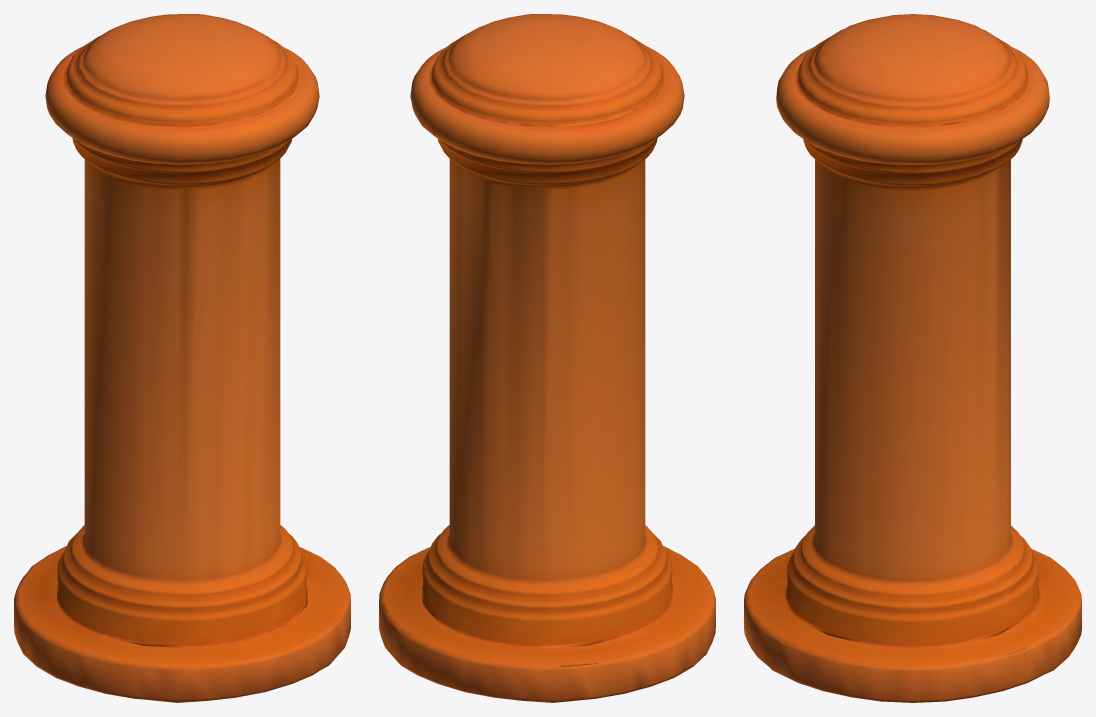
Rendered from Urban__a_bollard_bc0b9a2c_v2.cluster.glb.
3 views of the same model, side by side, from view 1: azimuth 30°, elevation 25°; view 2: azimuth 150°, elevation 25°; view 3: azimuth 270°, elevation 25° (orthographic).
Visible parts, largest first — view 1: material; view 2: material; view 3: material.
Boxes of the visible parts, box(x1,y1,x2,y2) form: material: box(14, 14, 350, 702); material: box(379, 14, 715, 702); material: box(744, 14, 1081, 702).
Bounding box in the file's own units: 0.9784 × 1.9 × 0.9784.
1 material, 1 textured.
